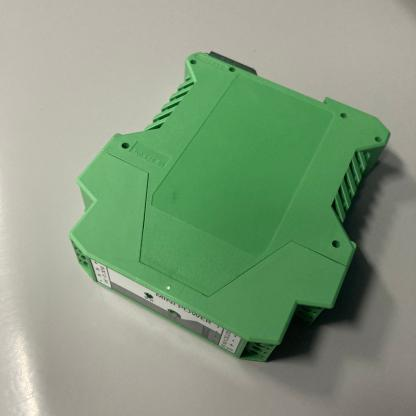SP0000011: (66, 31, 414, 363)
